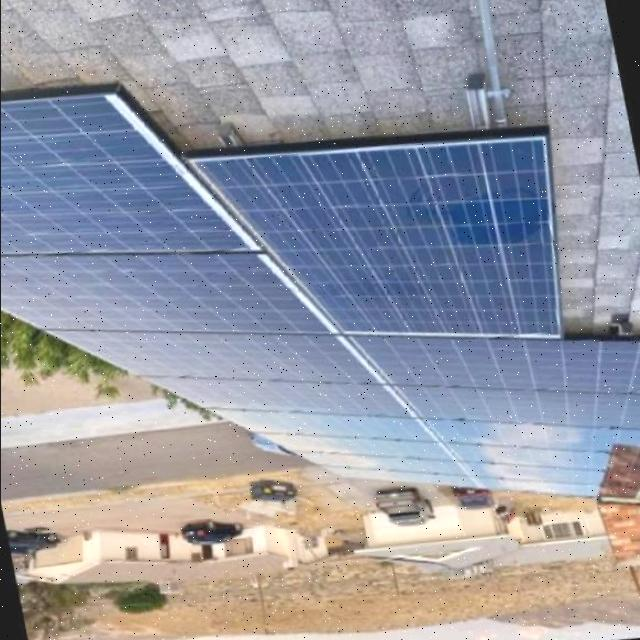Surface Contaminant: (0, 92, 418, 416), (205, 133, 640, 425)
